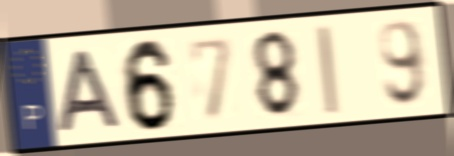6: (121, 35, 181, 134)
7: (188, 35, 235, 124)
8: (249, 27, 303, 121)
9: (378, 18, 431, 109)
A: (56, 47, 125, 136)
I: (312, 22, 342, 118)
